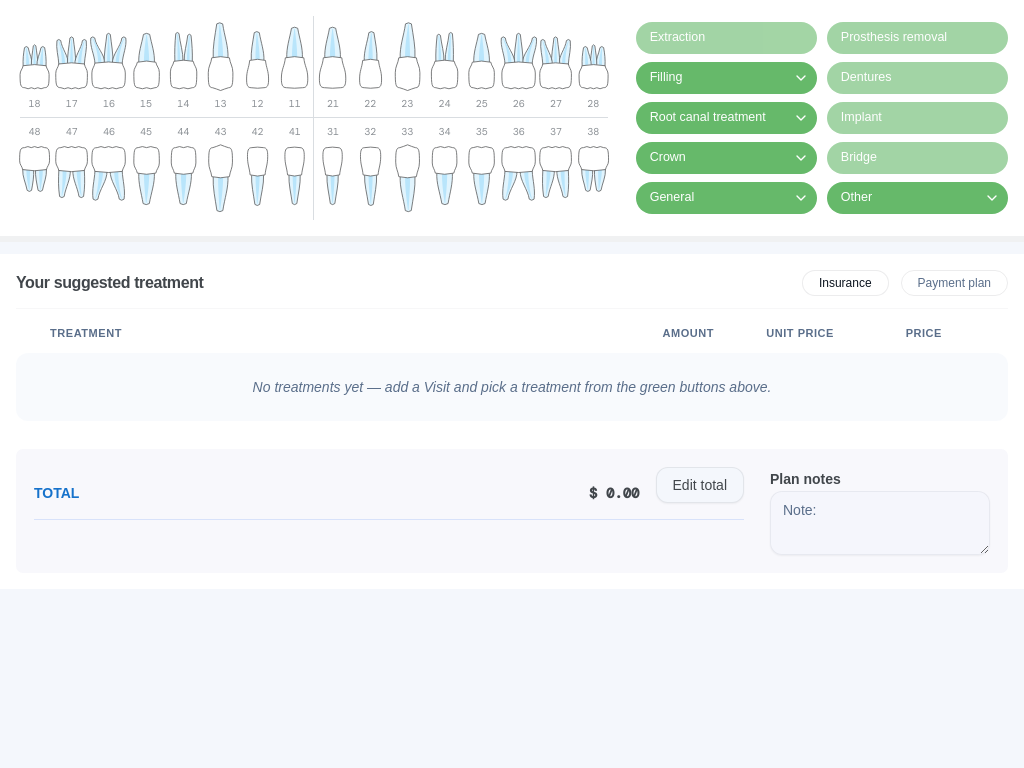
it: adds a typed Other... treatment without teeth
The width and height of the screenshot is (1024, 768).
Click the button "Other".
click(901, 198)  # box [827,182,976,214]
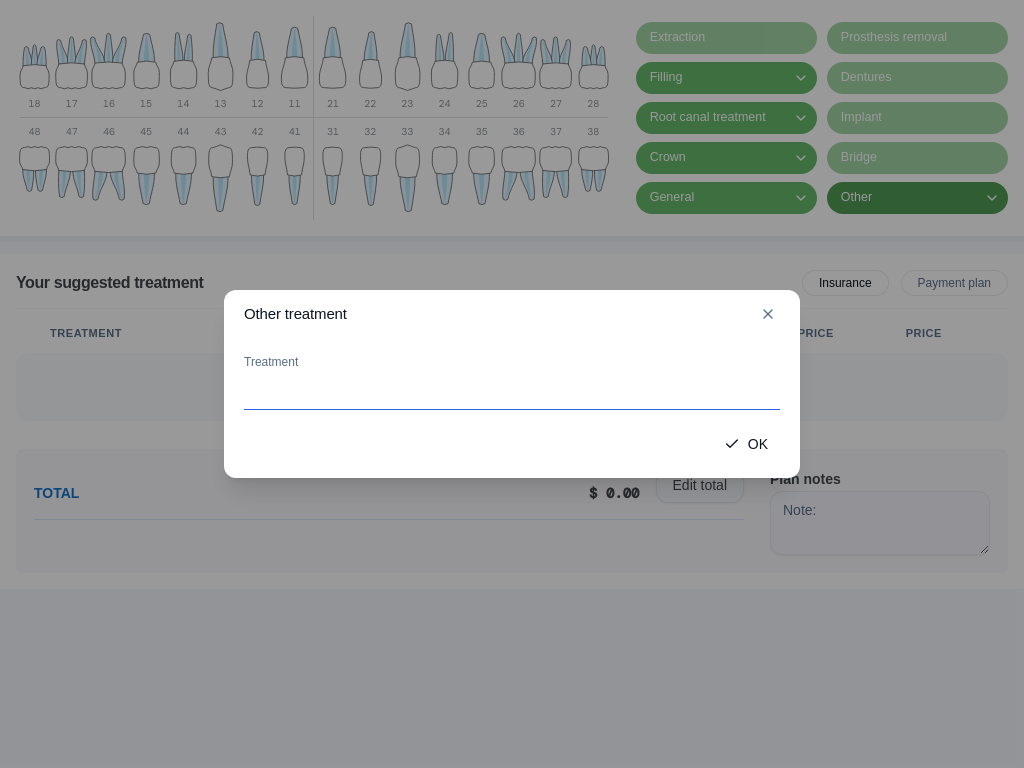
Expected: the heading "Other treatment" is shown, [244,303,347,325]
Type "Night guard" into the field labelled "Treatment".
click(512, 392); type("Night guard")  # box [244,374,780,410]
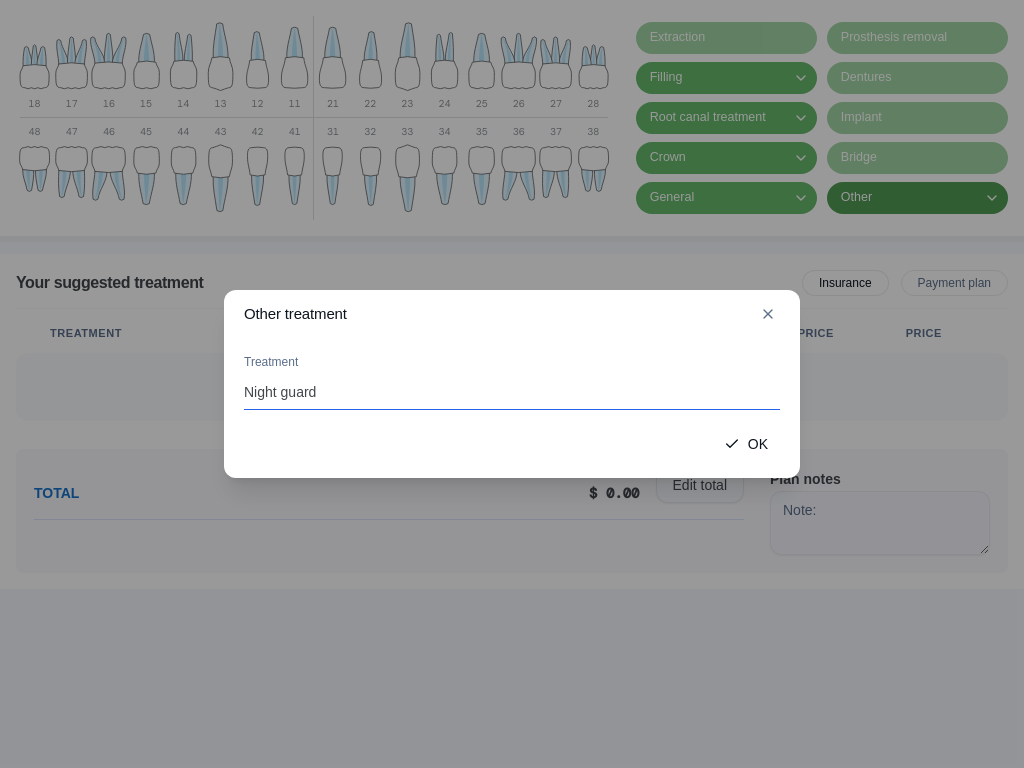
Press Enter in the field labelled "Treatment", box [244,374,780,410]
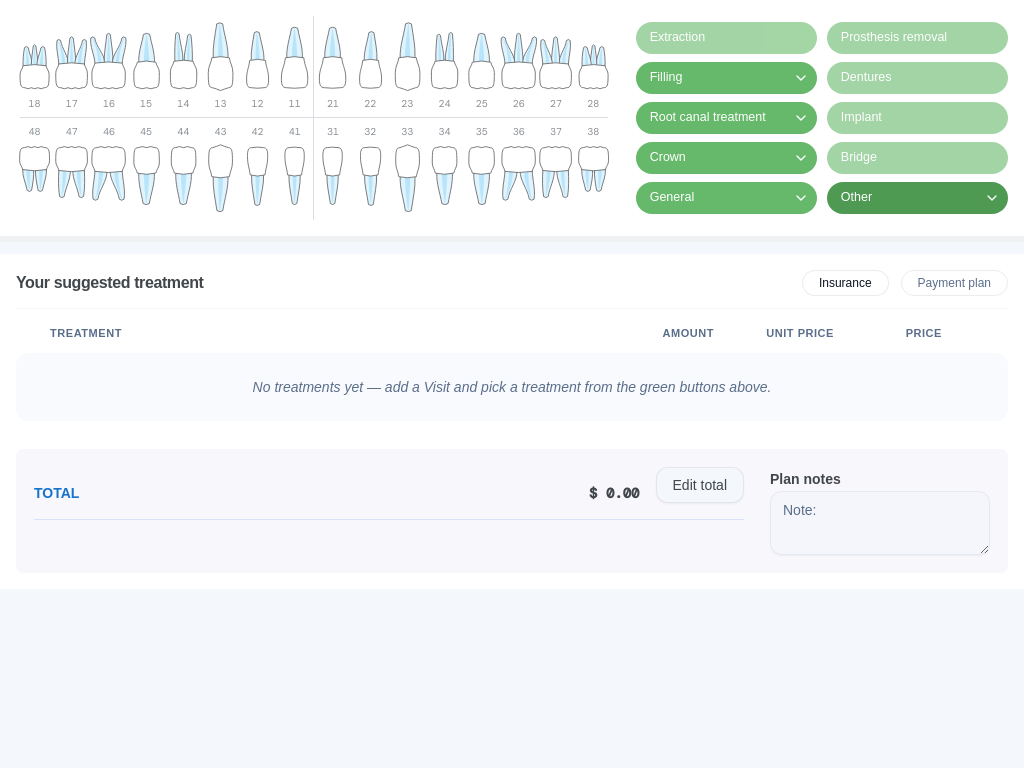
Expected: the dialog is gone
